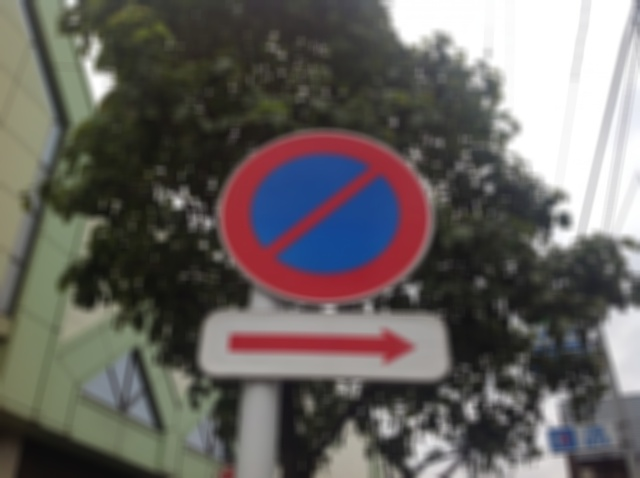Prohibition_sign: (203, 125, 450, 312)
